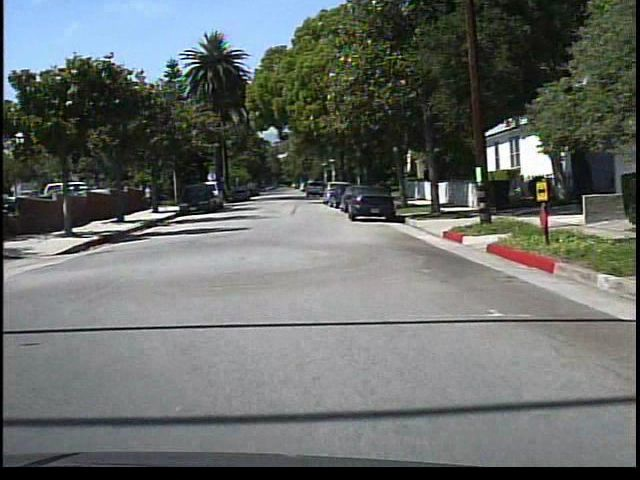person: (143, 183, 157, 212)
